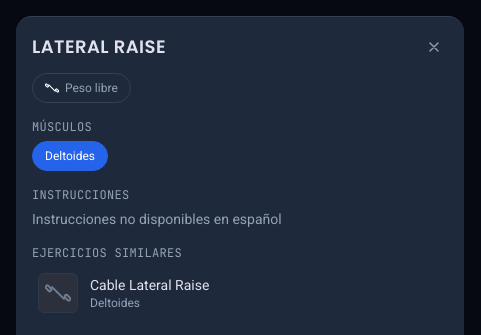
Test: QuickReferenceSheet › inline: swaps to a similar exercise in place and goes back, without navigating
Click the button "Cable Lateral Raise Deltoides" at coordinates (58, 293), box [32,267,448,319]
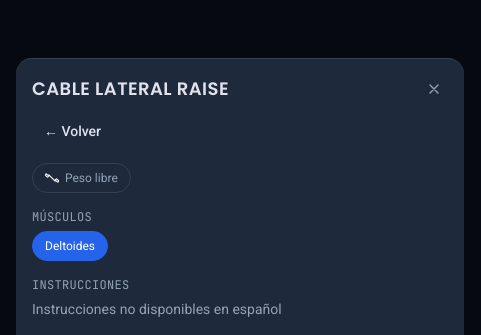
Expected: the heading "Cable Lateral Raise" is shown, [32,75,229,103]
Click the button "← Volver" at coordinates (72, 131), box [32,115,113,147]
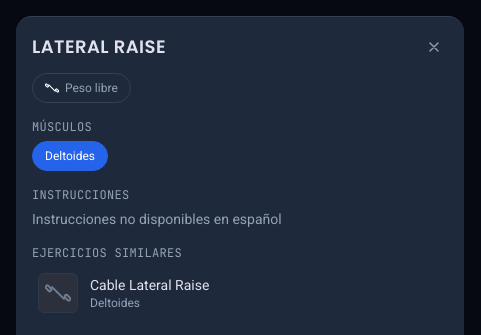
Expected: the heading "Lateral Raise" is shown, [32,33,166,61]
Expected: the button "← Volver" is gone
